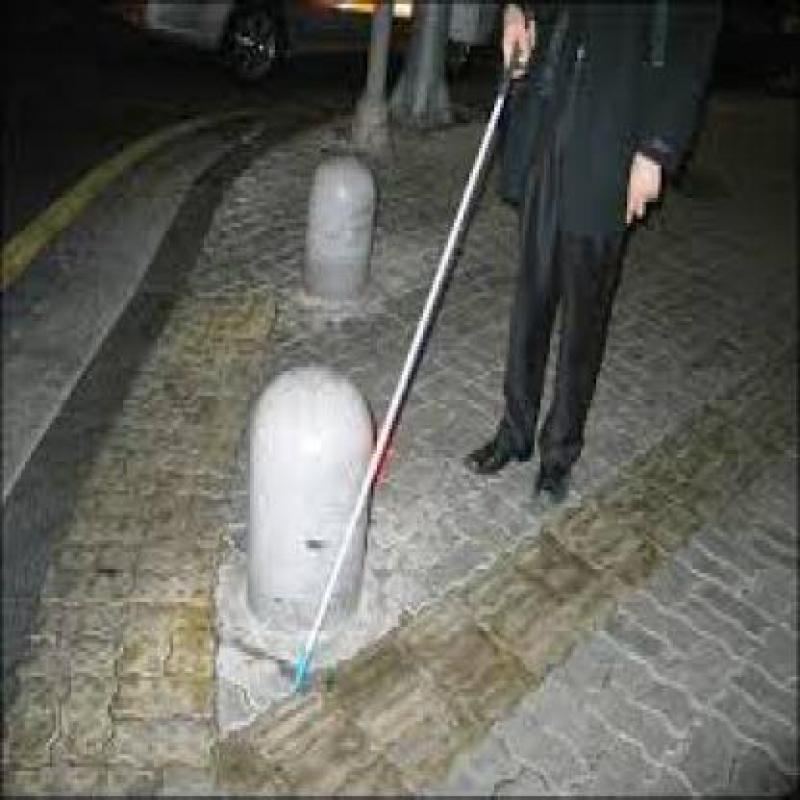bolard: (213, 367, 384, 607), (332, 190, 386, 302)
